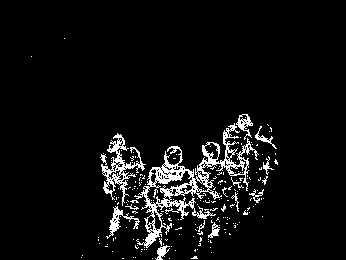person: (186, 140, 238, 260), (138, 145, 193, 256), (98, 132, 146, 236), (240, 122, 280, 213), (221, 111, 258, 200)
